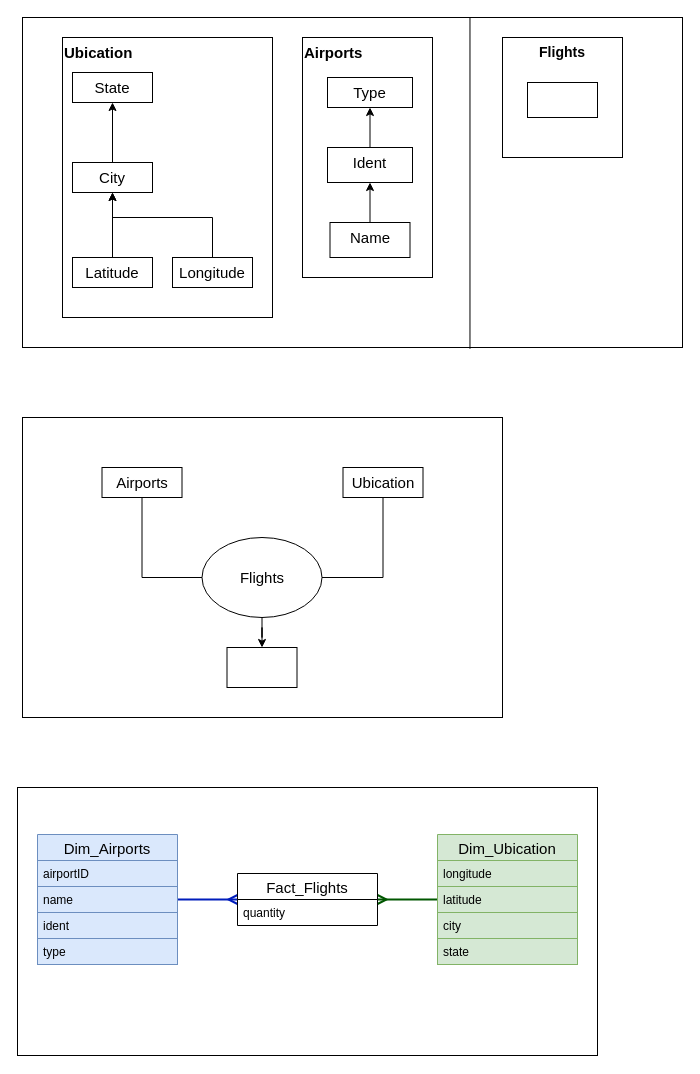
The diagram is 700 pixels wide and 1074 high, and some of its shapes have lost their labels. Here are the shapes that lost their labels. From the top down, the centre of each, then its label:
point (562, 100): Cantidad
point (261, 667): Flights quantity
